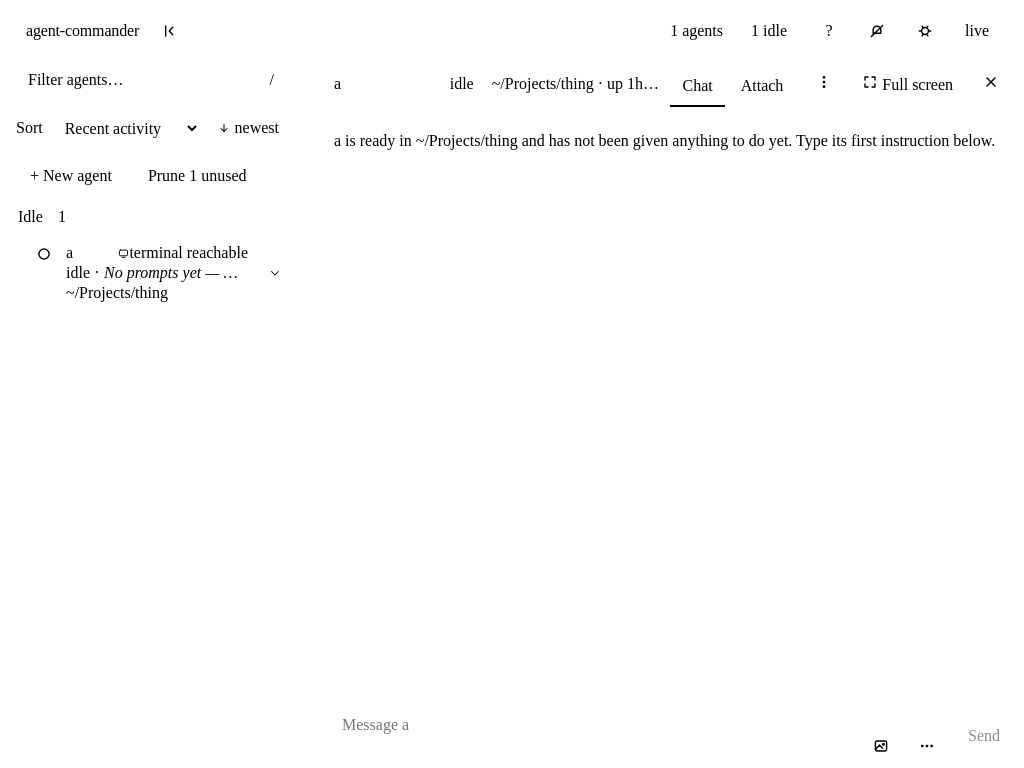
Test case: the fleet column › collapses out of the layout and comes back
Click the button with test id "sidebar-toggle" at (170, 31), box [153,14,187,48]
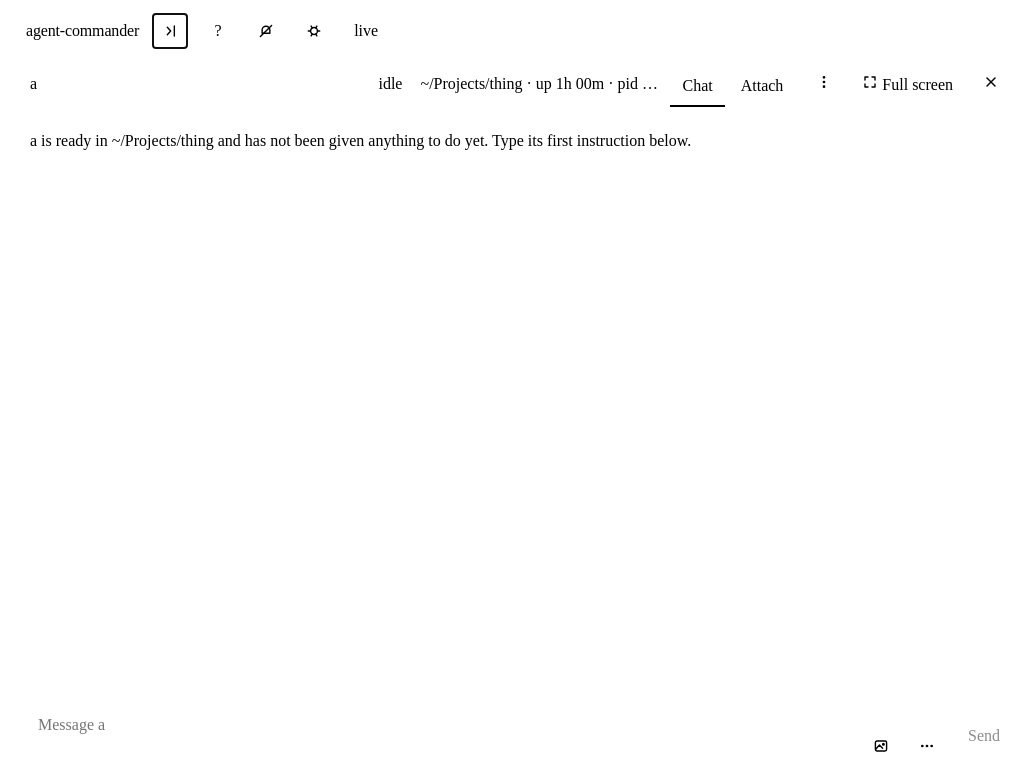
Result: the element with test id "fleet-list" is gone
Result: the button with test id "sidebar-toggle" is collapsed
Click the button with test id "sidebar-toggle" at (170, 31), box [153,14,187,48]
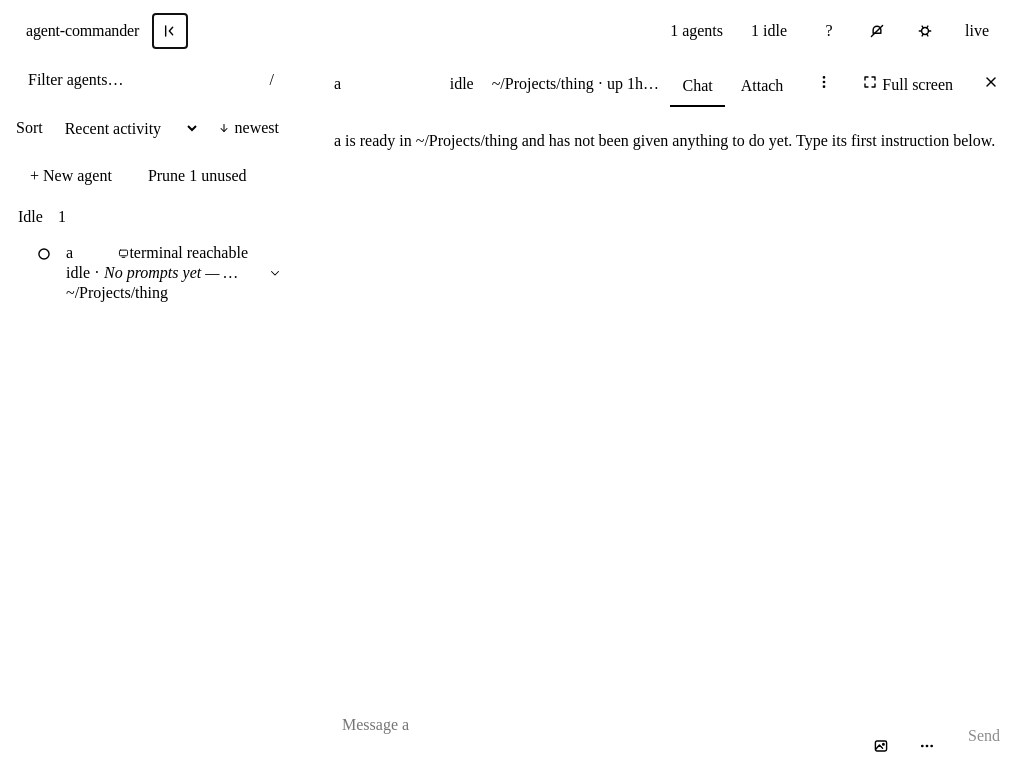
Result: the element with test id "fleet-list" is shown at [16,208,289,312]
